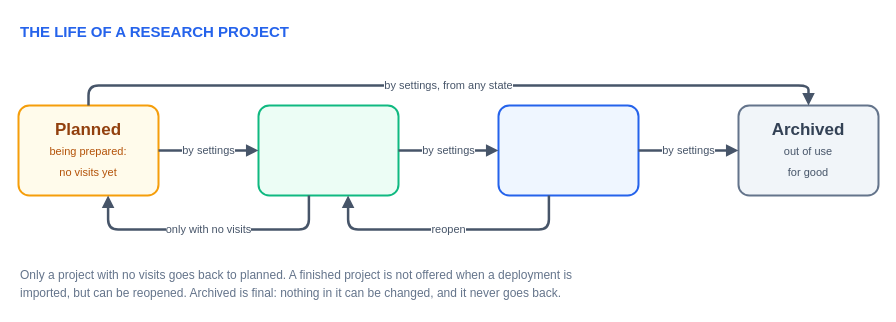
The diagram is 896 pixels wide and 322 high, and some of its shapes have lost their labels. Each missing label, with the centre of its shape:
Active the study is running: (328,150)
Finished the fieldwork is over: (568,150)
